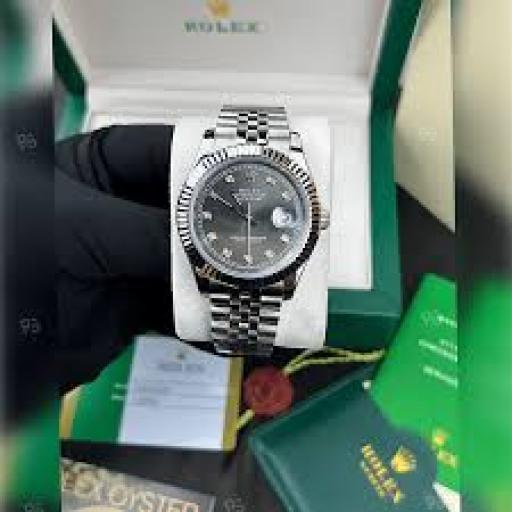KolSaati: (167, 88, 334, 372)
